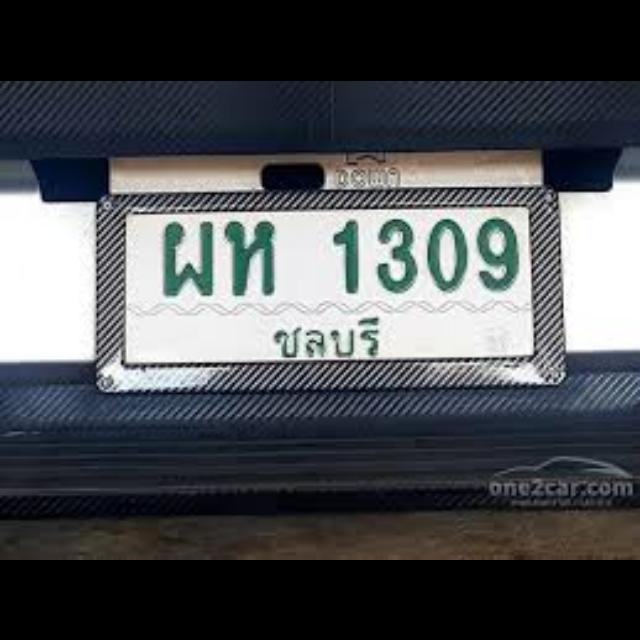licenseplate: (99, 192, 566, 384)
